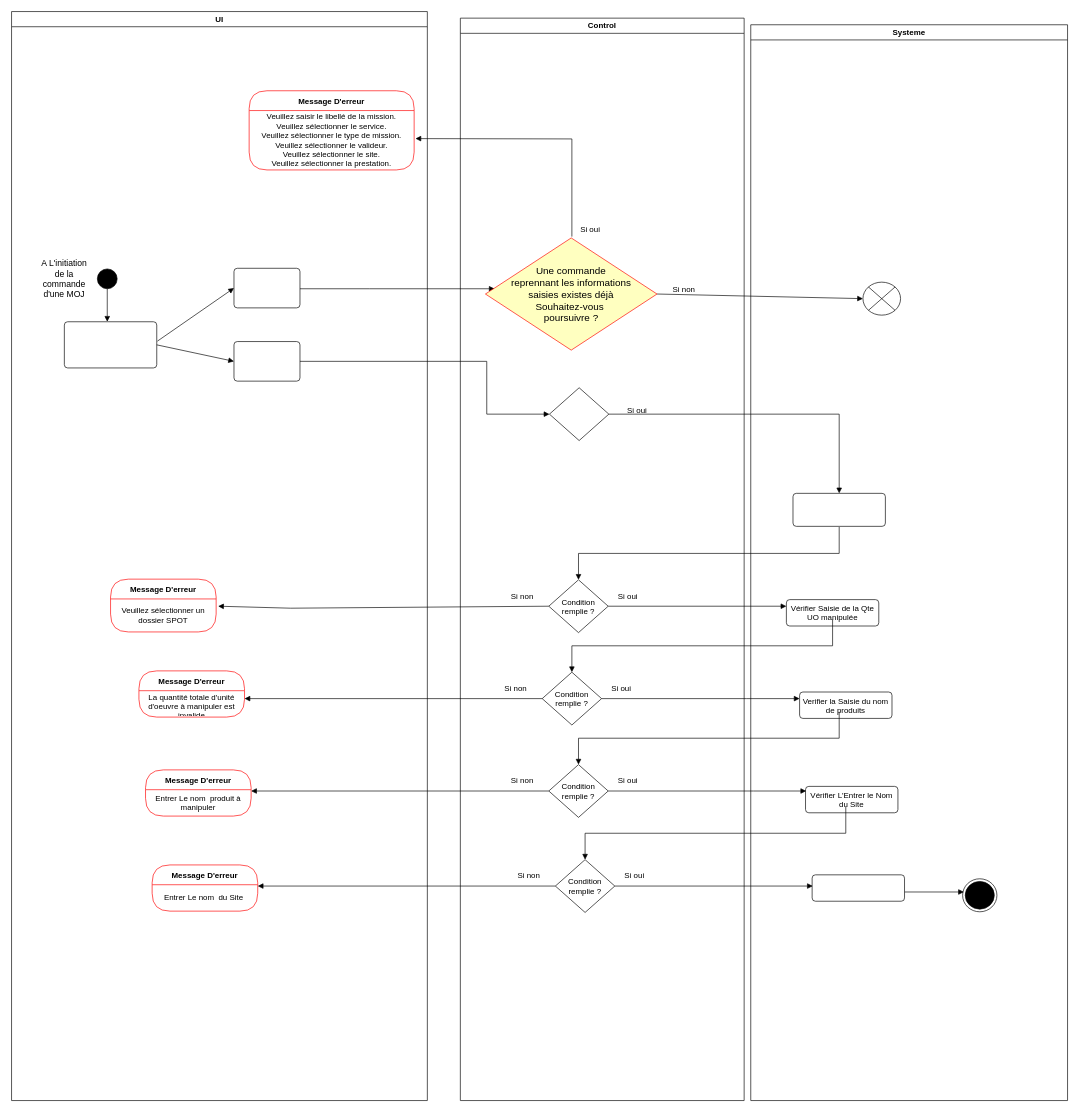
Image size: 1079x1112. Some labels were removed from this diagram. The centre of each missing label's shape, as x and y in pixels:
"Action Ajouter ?" belongs at pixel 579 414.
"Clique Ajouter" belongs at pixel 266 361.
"Clique Engistrer" belongs at pixel 266 288.
"Enregistrer La Commande" belongs at pixel 858 887.
"Remplir le Formulaire de Commande de la MOJ" belongs at pixel 110 344.
"Vérifier la sélection d'un Dossier SPOT" belongs at pixel 838 509.
